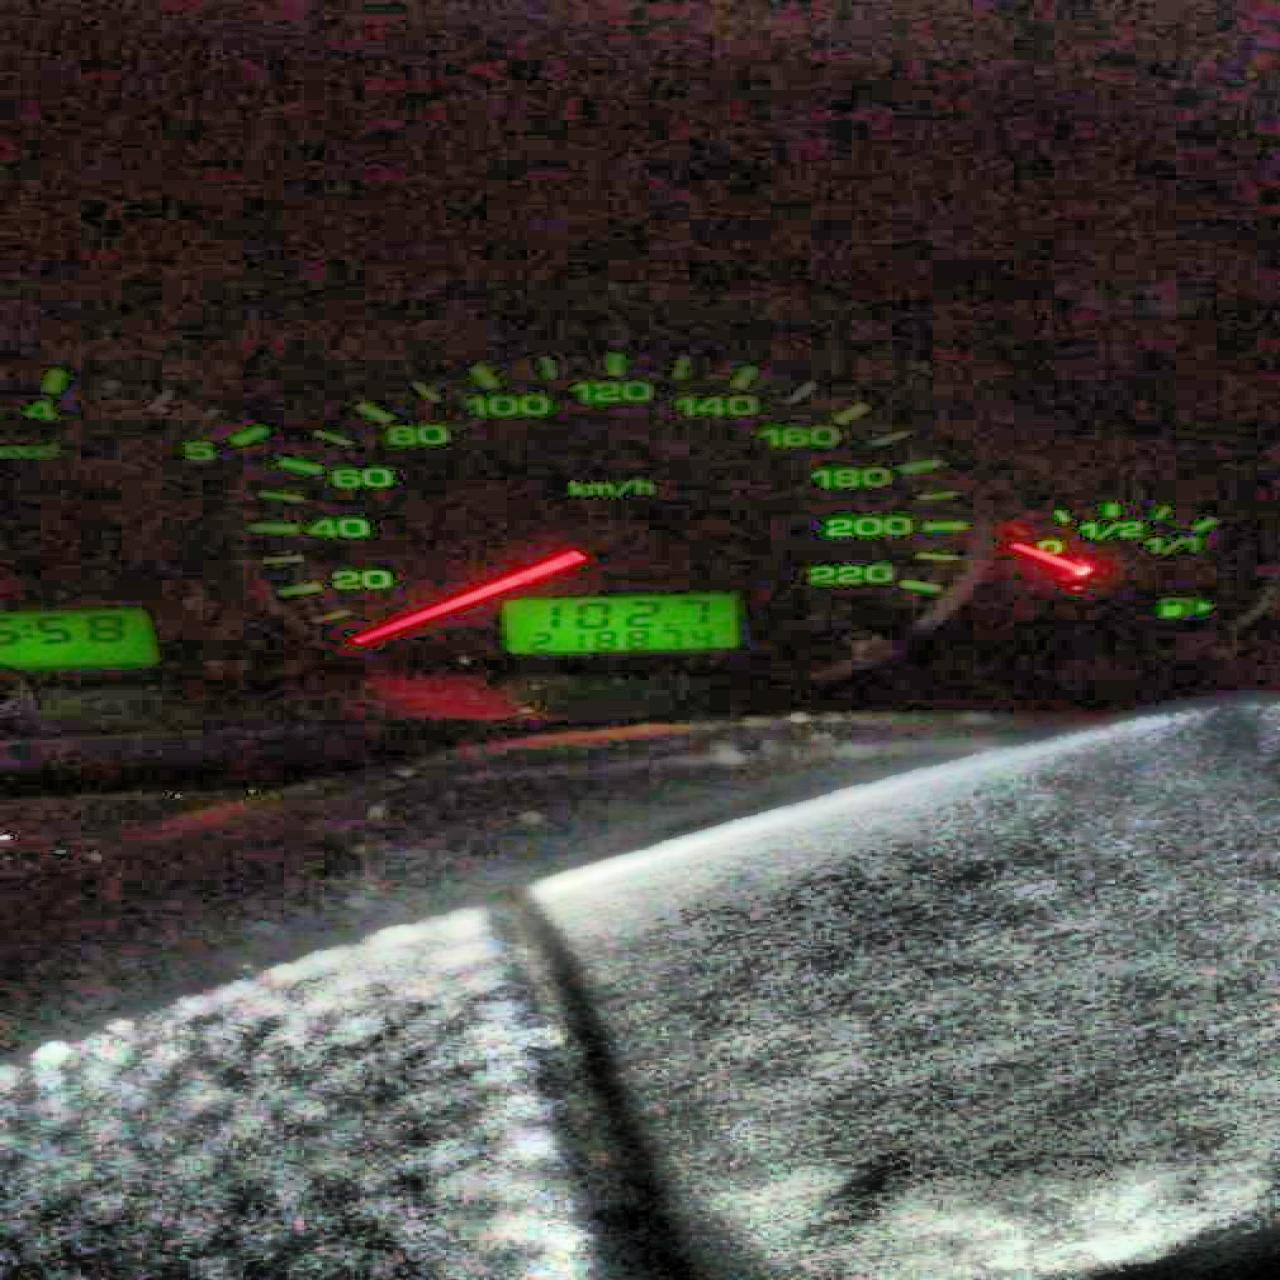-: (659, 621, 672, 627)
0: (573, 599, 608, 627)
1: (540, 602, 563, 628), (570, 631, 587, 651)
2: (618, 598, 659, 627), (522, 629, 550, 651)
4: (685, 627, 715, 647)
7: (672, 597, 713, 624), (654, 627, 682, 647)
8: (588, 628, 621, 651), (621, 627, 649, 648)
odometer: (495, 588, 750, 659)
